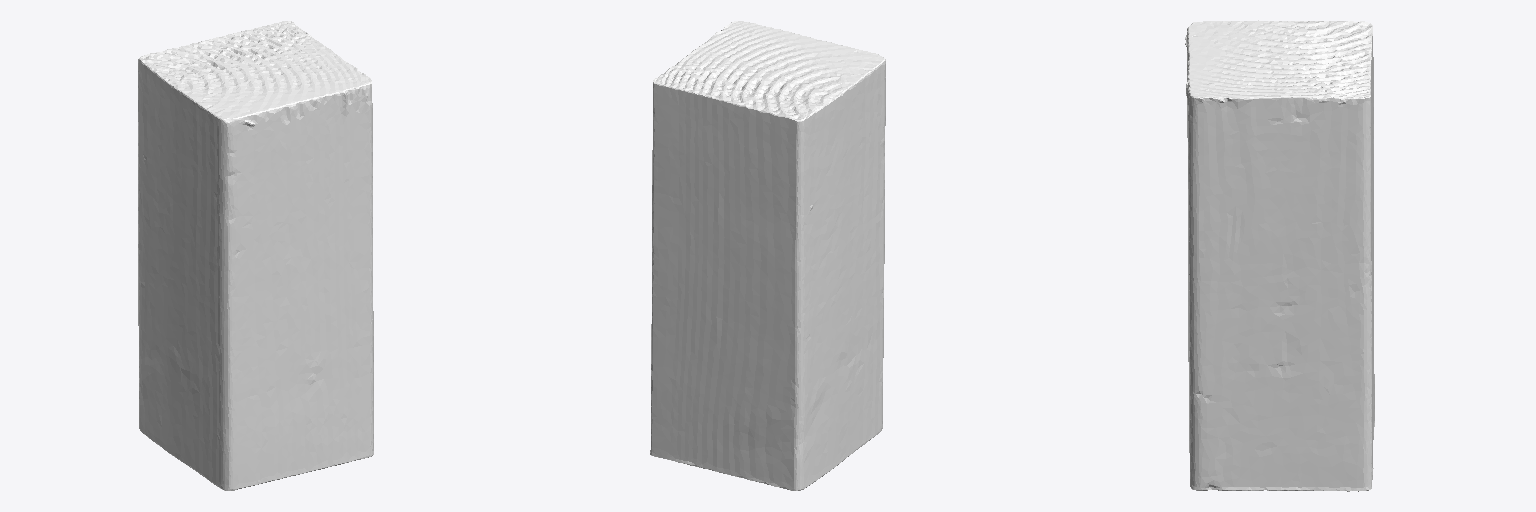
URDF robot description (bleach_cleanser):
<robot name="bleach_cleanser">
	<link name="base_link">
		<visual>
			<origin xyz="0.017138949272641098 -0.011574369859748879 -0.09969796254743377" rpy="0.0 0.0 0.0" />
			<geometry>
				<mesh filename="021_bleach_cleanser/google_16k/textured.obj" scale="1 1 1" />
			</geometry>
			<material name="texture">
				<color rgba="1.0 1.0 1.0 1.0" />
			</material>
		</visual>
		<collision>
			<origin xyz="0.017138949272641098 -0.011574369859748879 -0.09969796254743377" rpy="0.0 0.0 0.0" />
			<geometry>
				<mesh filename="021_bleach_cleanser/google_16k/textured_vhacd.obj" scale="1 1 1" />
			</geometry>
		</collision>
		<inertial>
			<mass value="1.131" />
			<inertia ixx="1e-3" ixy="0.0" ixz="0.0" iyy="1e-3" iyz="0.0" izz="1e-3" />
		</inertial>
	</link>
</robot>

--- Render facts (derived) ---
3 views of the same robot in one strip: view 1: azimuth 30°, elevation 25°; view 2: azimuth 150°, elevation 25°; view 3: azimuth 270°, elevation 25° (orthographic).
Model bleach_cleanser with 1 links and 0 joints (none), rooted at base_link, posed all joints at 0.
Visible links, largest first — view 1: base_link; view 2: base_link; view 3: base_link.
Boxes of the visible links, x1=… form: base_link: x1=138, y1=21, x2=373, y2=490; base_link: x1=650, y1=21, x2=885, y2=490; base_link: x1=1185, y1=20, x2=1374, y2=491.
Size in the robot's own frame: 0.0906 by 0.0899 by 0.206 metres.
Meshes: 1 distinct files referenced, 1 mesh visuals loaded (1 OBJ).